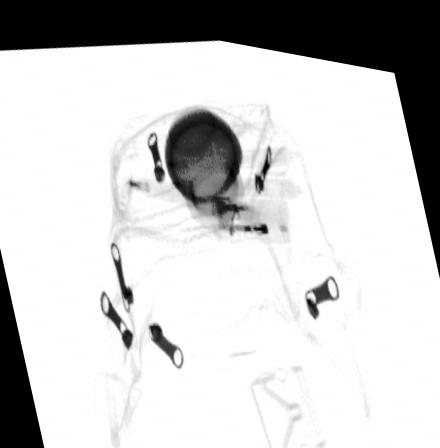Lighter: (211, 187, 290, 230)
